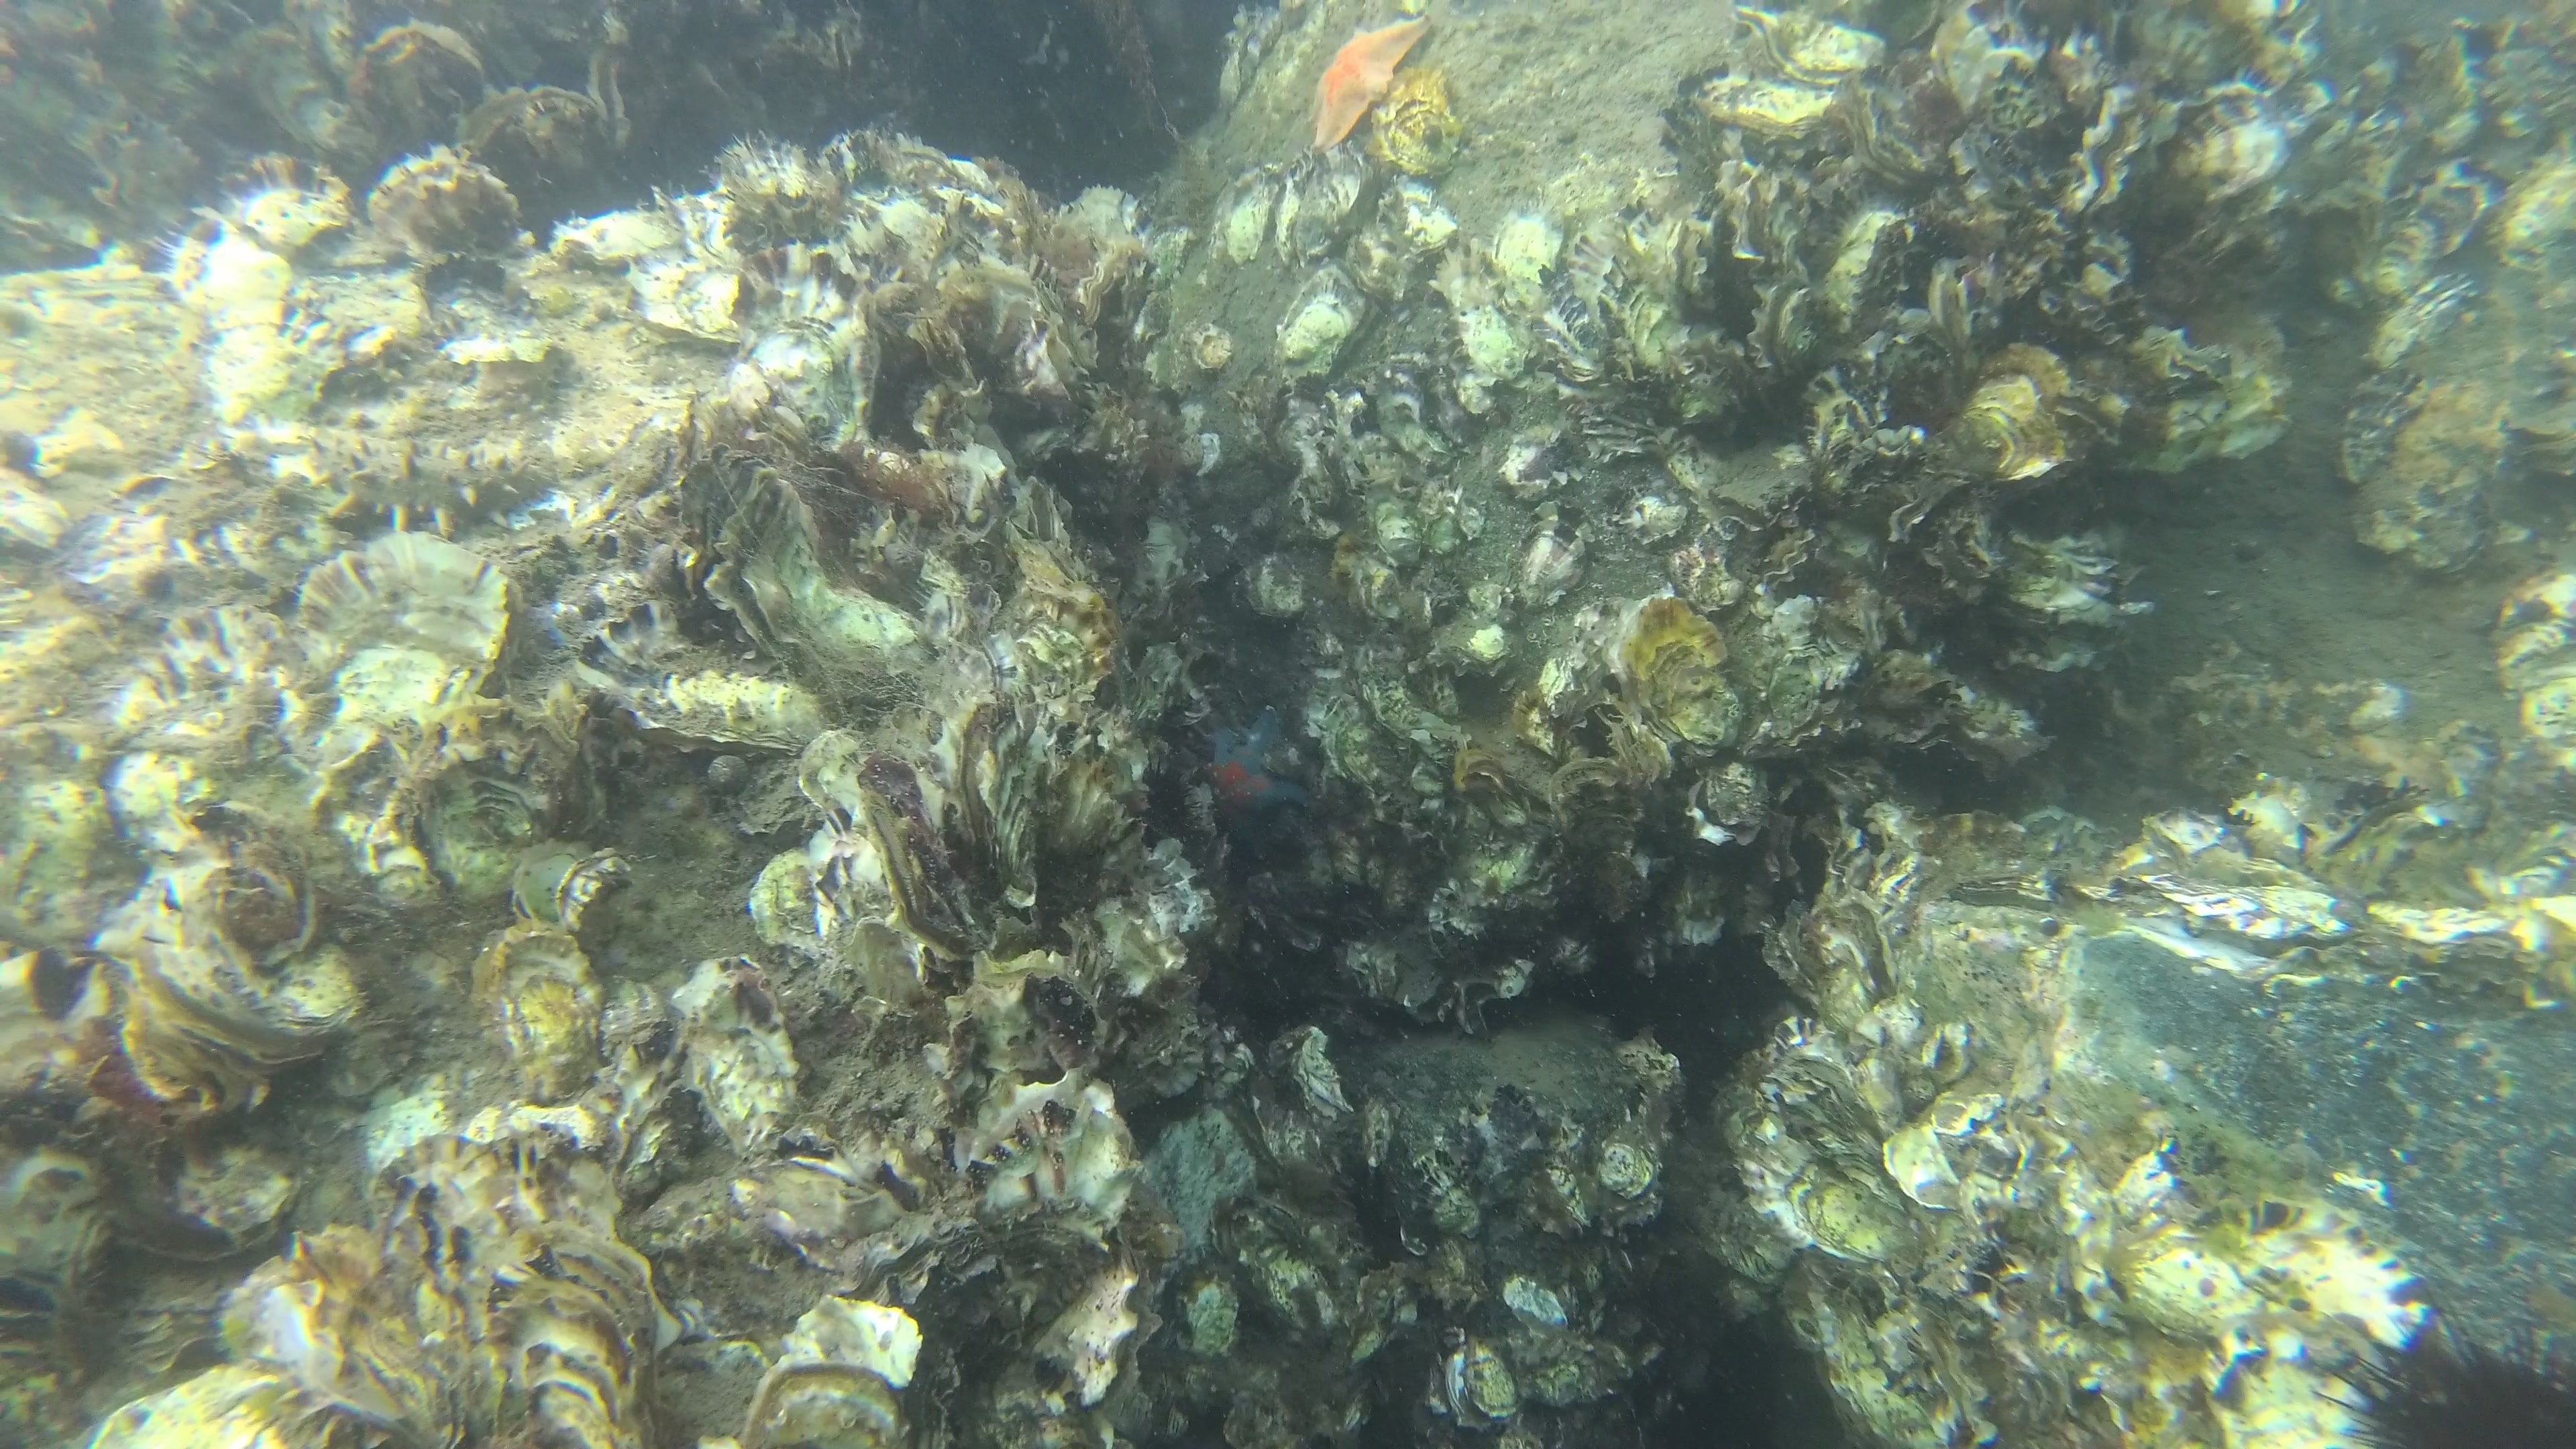starfish: (1297, 12, 1430, 163), (1196, 711, 1318, 863)
